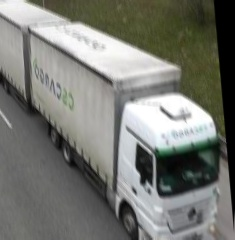truck: (0, 0, 230, 240)
